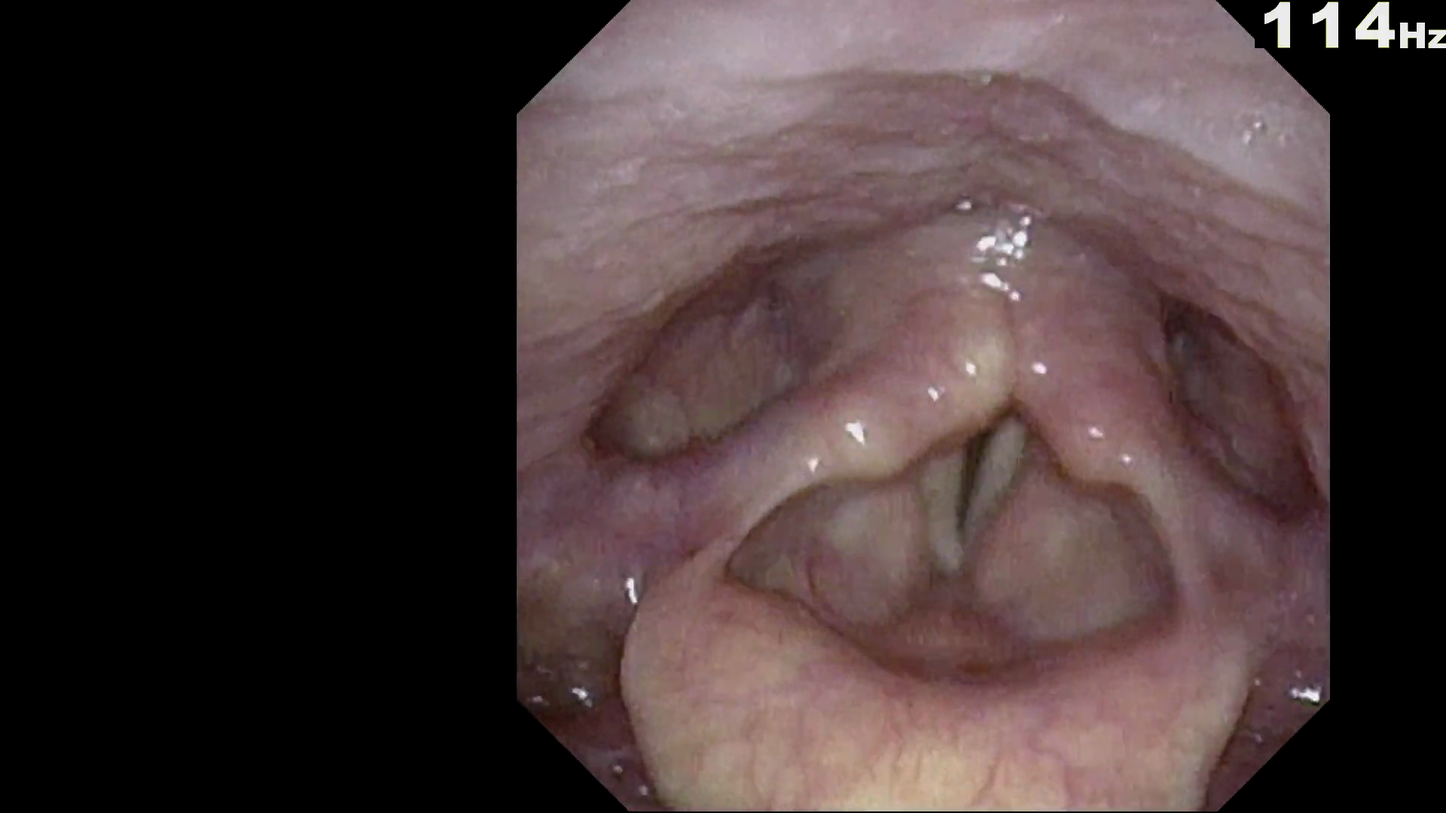epiglottis: (600, 503, 1252, 768)
trachea: (875, 363, 1054, 588)
